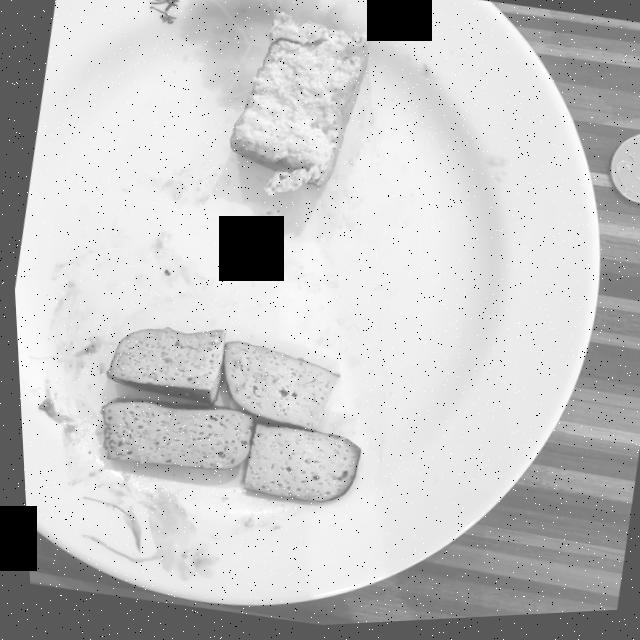coin: (608, 141, 640, 211)
egg tofu: (229, 15, 368, 199)
firm tofu: (97, 330, 356, 506)
